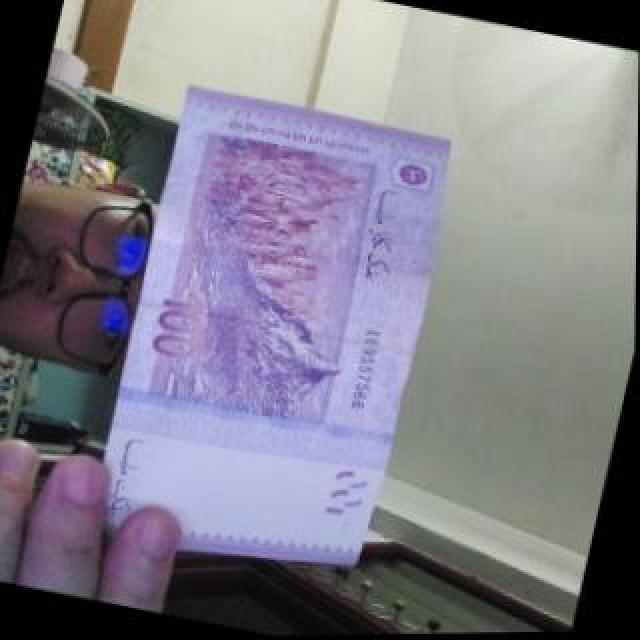100 Ringgit: (74, 68, 462, 590)
